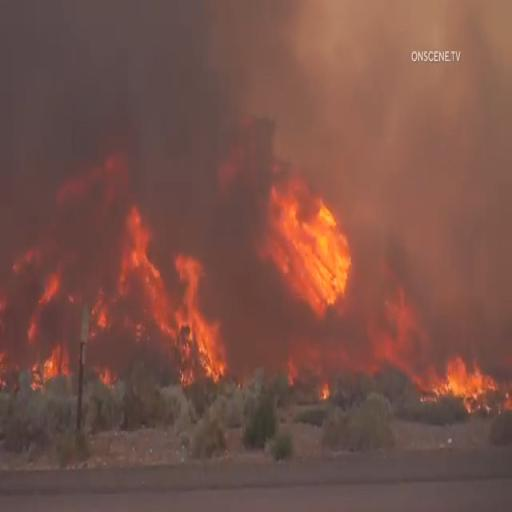fire: (103, 210, 221, 406), (264, 197, 354, 329), (421, 330, 501, 434)
smoke: (4, 8, 196, 210), (197, 8, 403, 190), (162, 112, 246, 228)
